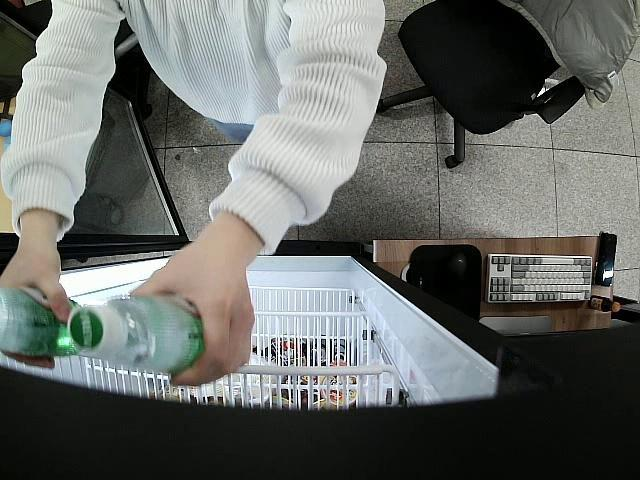18_trevi: (67, 295, 206, 376), (0, 287, 92, 357)
